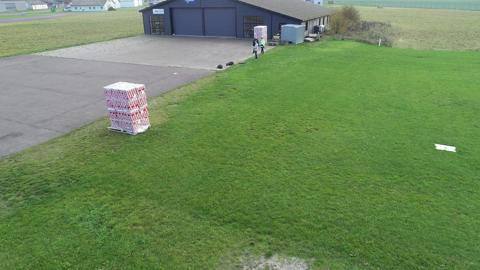RockwoolPallet: (253, 25, 268, 48)
